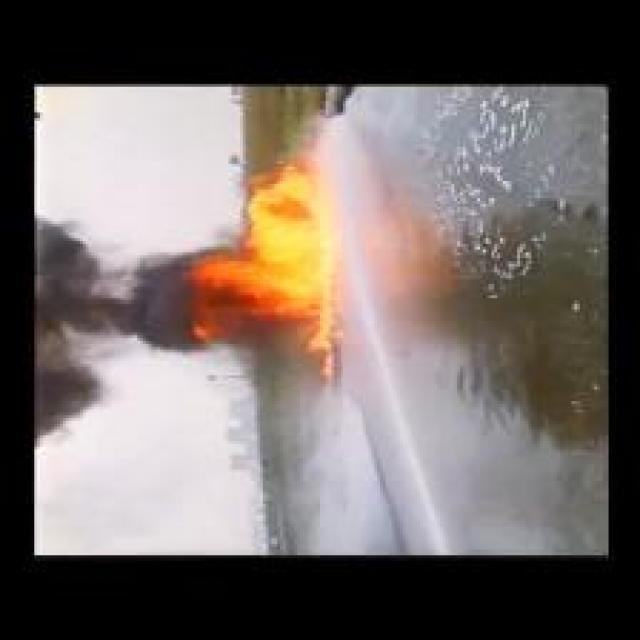Fire: (188, 152, 334, 374)
